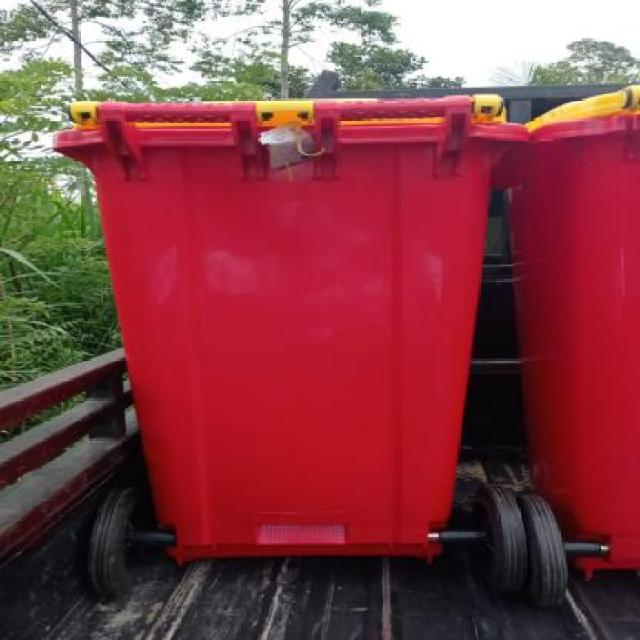garbage container: (48, 88, 537, 620)
